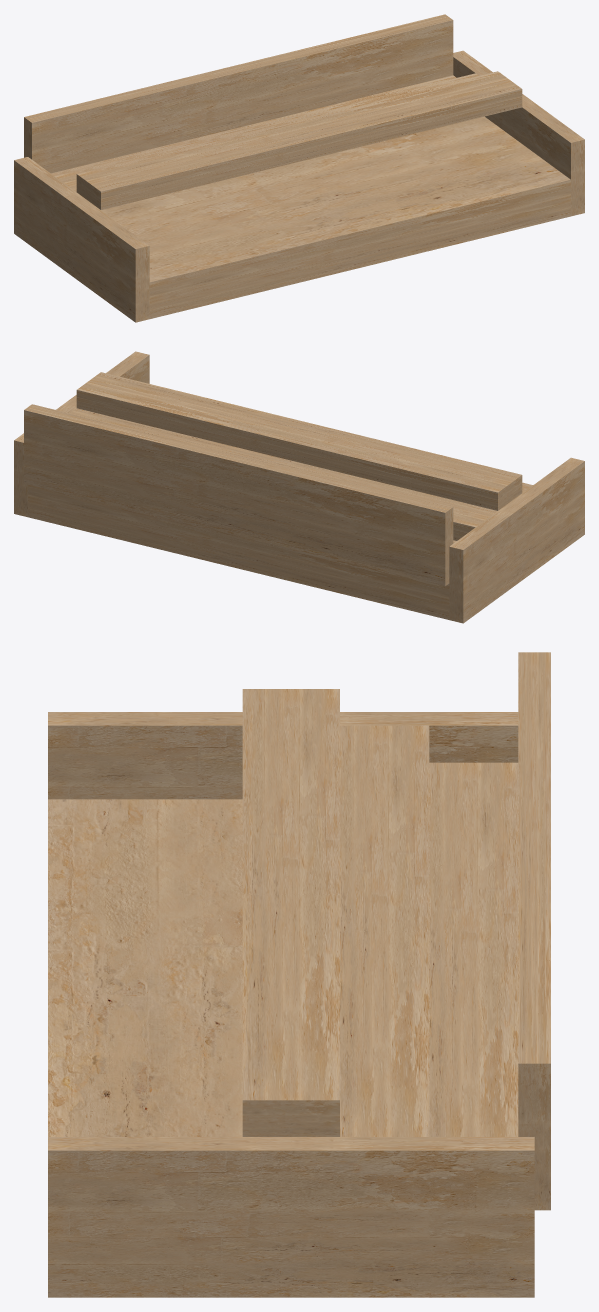
File: stands.gltf
3 views of the same model, one above another, from view 1: azimuth 30°, elevation 25°; view 2: azimuth 150°, elevation 25°; view 3: azimuth 270°, elevation 25° (orthographic). The views are drawn at different scales.
Visible parts, largest first — view 1: stands_base, stands_back, stands_step_2, stands_cheek_w, stands_cheek_e, stands_step_1, stands_step_0; view 2: stands_back, stands_step_2, stands_base, stands_cheek_w, stands_step_1, stands_cheek_e; view 3: stands_cheek_e, stands_base, stands_step_2, stands_step_1, stands_step_0, stands_cheek_w, stands_back.
Part boxes in pixels (left/top/right/bottom): stands_base: left=101, top=116, right=570, bottom=318; stands_back: left=24, top=14, right=453, bottom=173; stands_step_2: left=76, top=71, right=522, bottom=209; stands_cheek_w: left=14, top=157, right=149, bottom=322; stands_cheek_e: left=453, top=50, right=584, bottom=216; stands_step_1: left=55, top=73, right=478, bottom=191; stands_step_0: left=51, top=75, right=456, bottom=175; stands_back: left=24, top=404, right=453, bottom=586; stands_step_2: left=76, top=372, right=522, bottom=510; stands_base: left=28, top=482, right=532, bottom=619; stands_cheek_w: left=449, top=457, right=584, bottom=623; stands_step_1: left=70, top=408, right=497, bottom=540; stands_cheek_e: left=14, top=351, right=149, bottom=517; stands_cheek_e: left=48, top=1137, right=534, bottom=1297; stands_base: left=48, top=799, right=242, bottom=1136; stands_step_2: left=242, top=689, right=339, bottom=1136; stands_step_1: left=340, top=725, right=429, bottom=1136; stands_step_0: left=429, top=762, right=518, bottom=1136; stands_cheek_w: left=48, top=712, right=518, bottom=799; stands_back: left=518, top=652, right=550, bottom=1210.
Size of the model in its own units: 12.8 by 3 by 6.2.
1 material, 1 textured.
